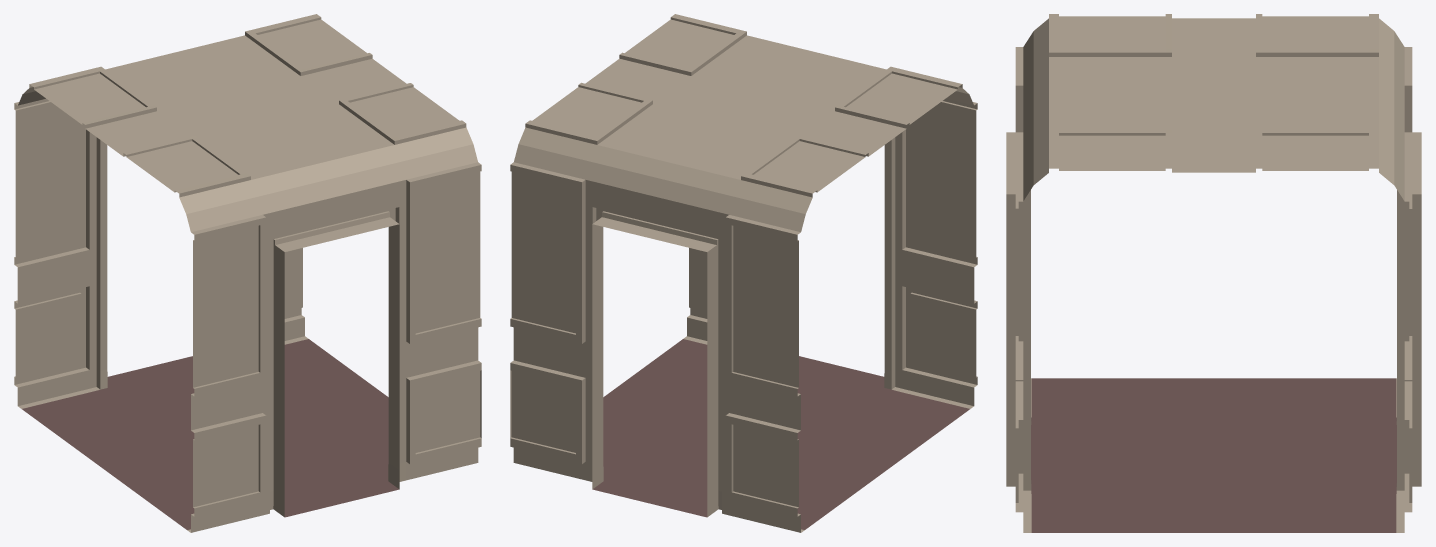
File: Corridor_02_Mesh.fbx
3 renders of one model, left to right at view 1: azimuth 30°, elevation 25°; view 2: azimuth 150°, elevation 25°; view 3: azimuth 270°, elevation 25°, orthographic. The views are drawn at different scales.
Parts seen in each view (by area): view 1: Corridor_Door_LP; view 2: Corridor_Door_LP; view 3: Corridor_Door_LP.
Part boxes in pixels (x1,y1,x2,y2): Corridor_Door_LP: (14, 14, 481, 532); Corridor_Door_LP: (510, 14, 977, 532); Corridor_Door_LP: (1006, 14, 1421, 532).
Bounding box in the file's own units: 230 × 253 × 261.
